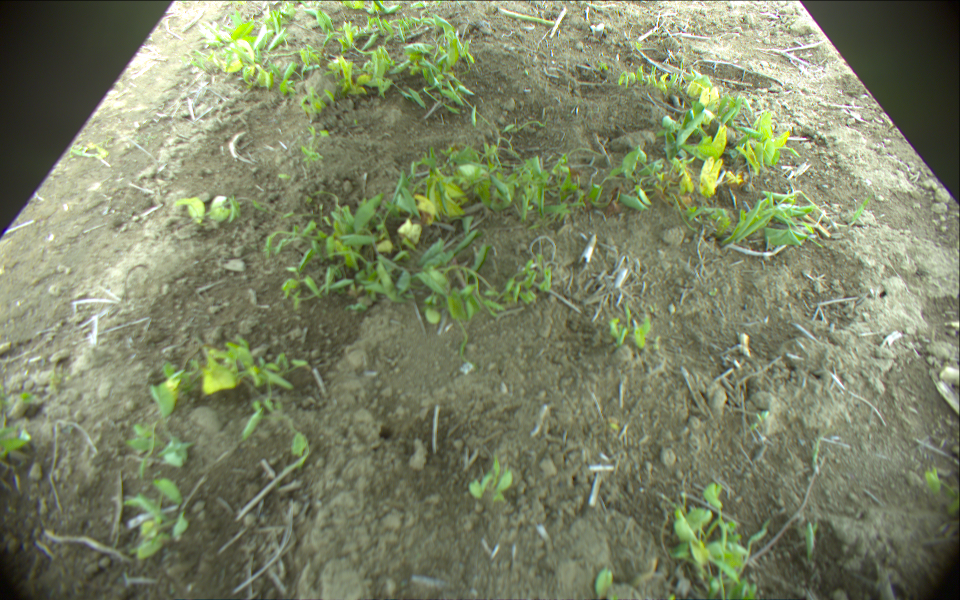aspa: (499, 7, 558, 27)
